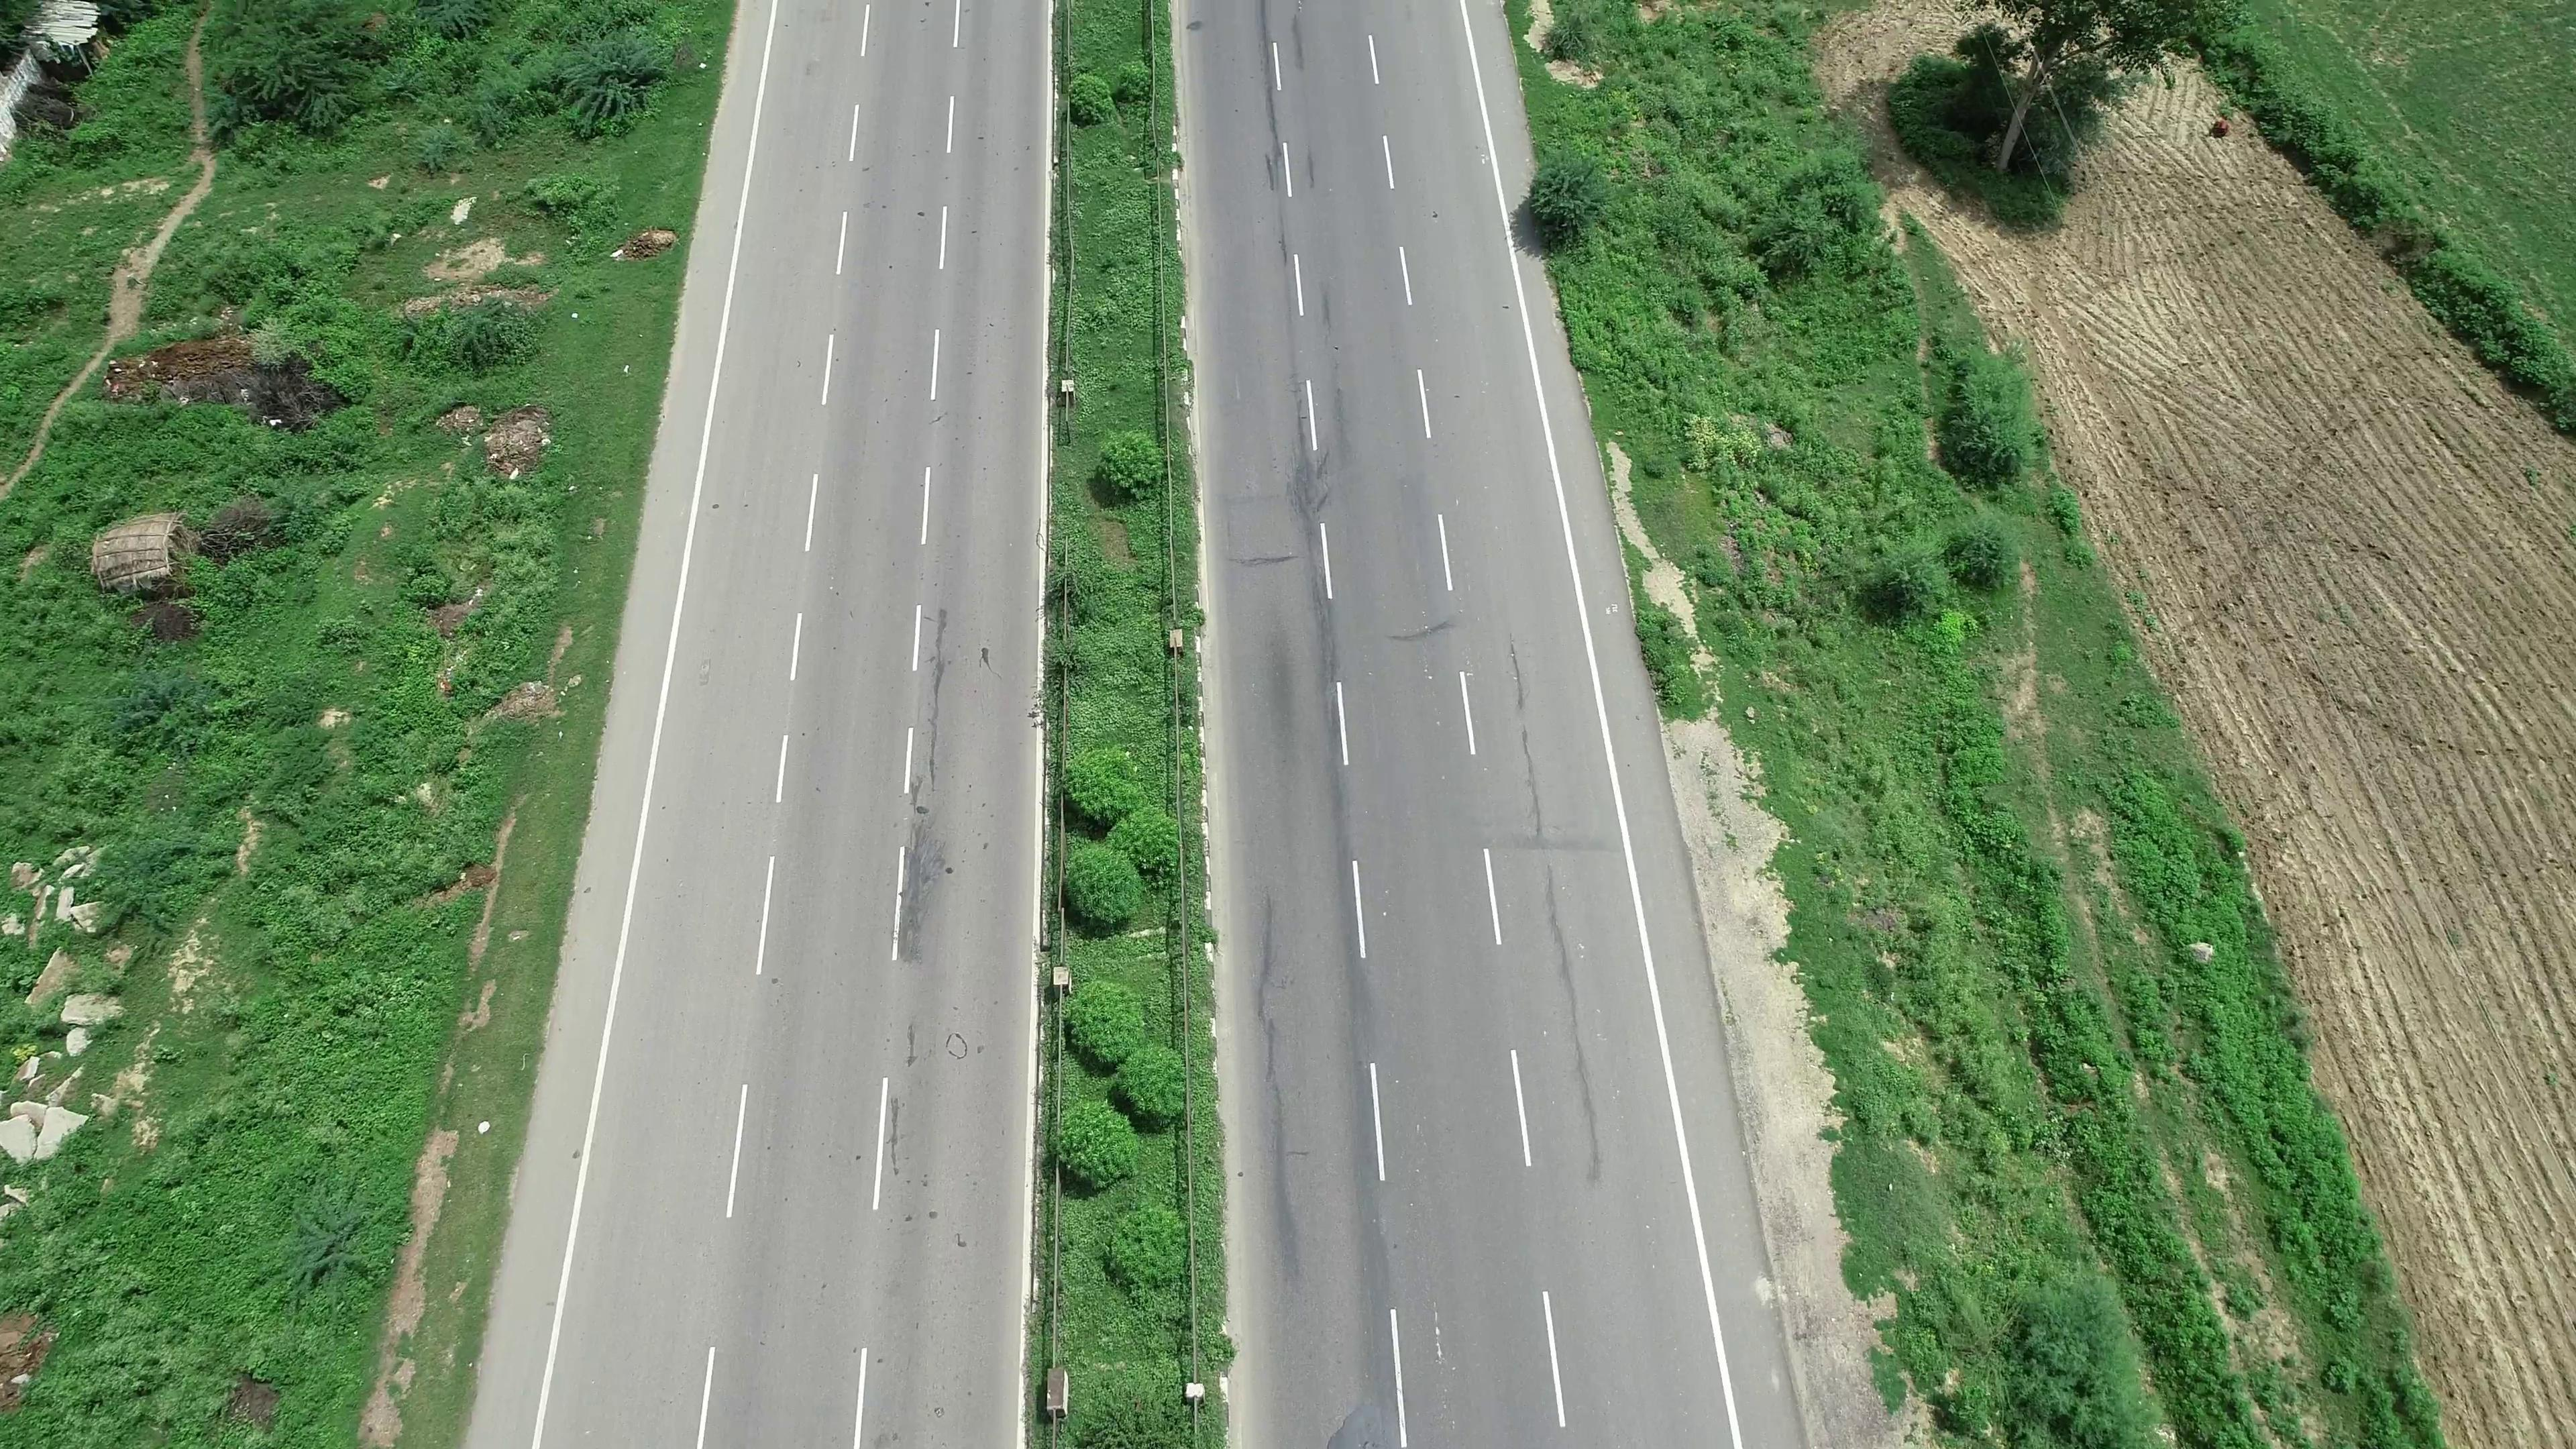Longitudinal_cracks: (1488, 649, 1601, 1175), (1240, 0, 1313, 499), (1221, 899, 1307, 1274), (913, 621, 957, 931)
Potholes: (931, 1017, 985, 1097)
